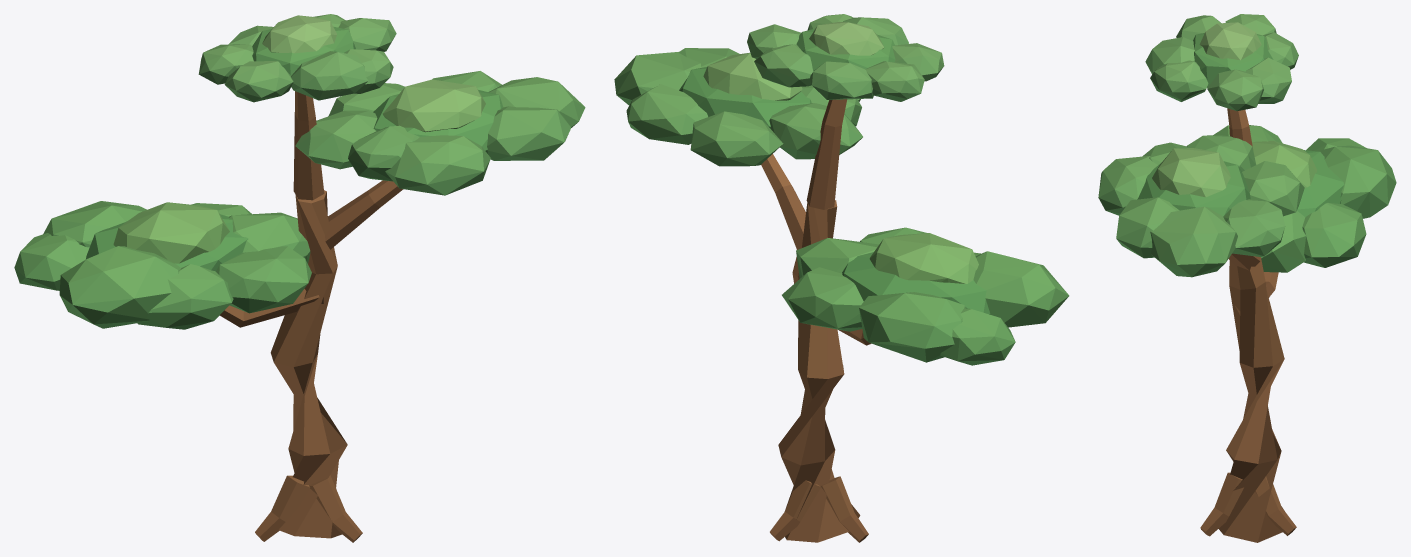
File: giant_cloud_tree.fbx
3 views of the same model, side by side, from view 1: azimuth 30°, elevation 25°; view 2: azimuth 150°, elevation 25°; view 3: azimuth 270°, elevation 25° (orthographic). The views are drawn at different scales.
Visible parts, largest first — view 1: giant_cloud_tree; view 2: giant_cloud_tree; view 3: giant_cloud_tree.
Boxes of the visible parts, x1=… form: giant_cloud_tree: x1=14, y1=14, x2=585, y2=542; giant_cloud_tree: x1=614, y1=14, x2=1069, y2=542; giant_cloud_tree: x1=1098, y1=14, x2=1396, y2=542.
Bounding box in the file's own units: 123 × 126 × 69.74.
